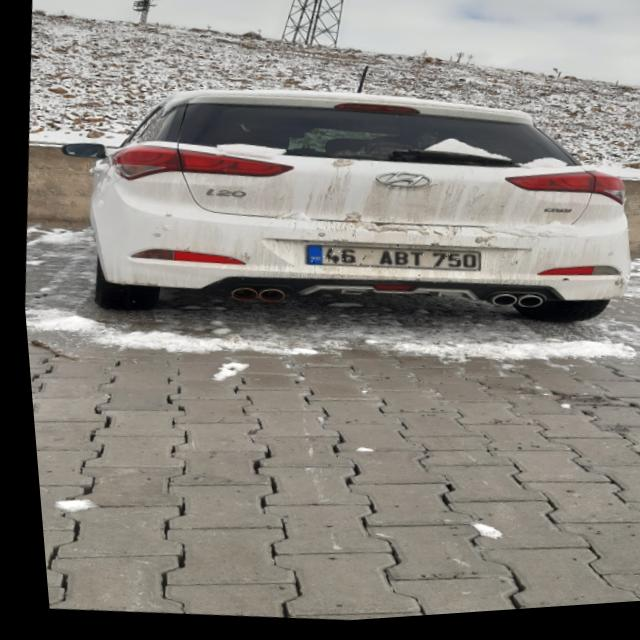license_plate: (298, 239, 477, 286)
